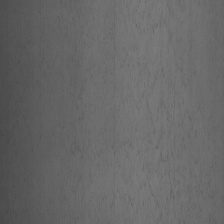silk_spot: (120, 10, 217, 211), (58, 9, 116, 204)
